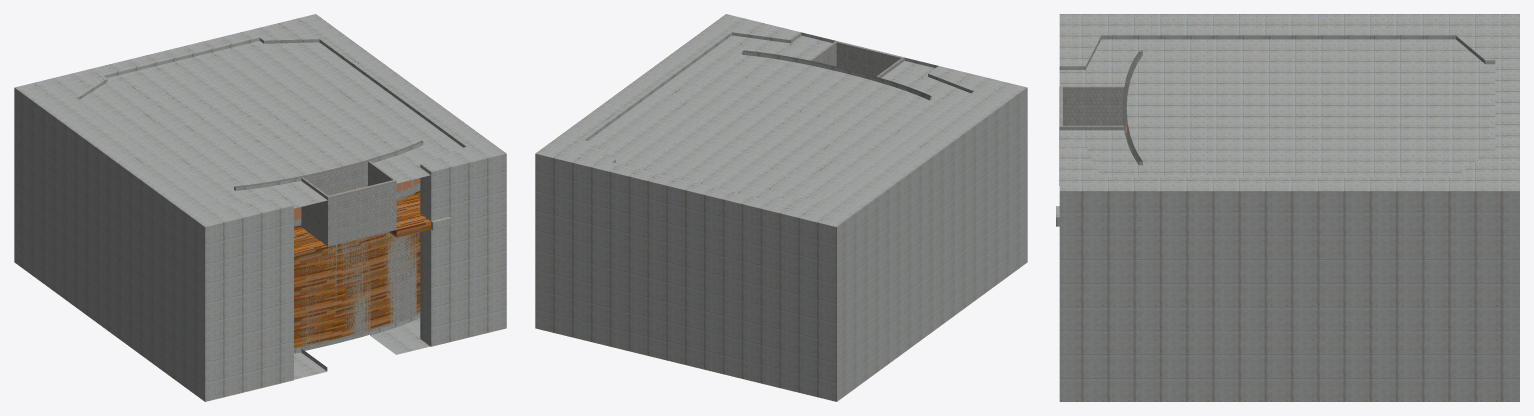
File: model auditorium final.gltf
The picture shows the model from 3 angles, left to right: view 1: azimuth 30°, elevation 25°; view 2: azimuth 150°, elevation 25°; view 3: azimuth 270°, elevation 25°; orthographic projection. The views are drawn at different scales.
Parts seen in each view (by area): view 1: Concrete (×3), auditorium; view 2: Concrete (×3); view 3: Concrete (×3).
Part boxes in pixels (x1,y1,x2,y2): Concrete (×3): (14, 14, 506, 401); auditorium: (294, 191, 430, 347); Concrete (×3): (535, 14, 1027, 401); Concrete (×3): (1056, 14, 1519, 401).
Bounding box in the file's own units: 12.6 × 7.01 × 13.92.
Materials: 4 (4 with a texture image).
